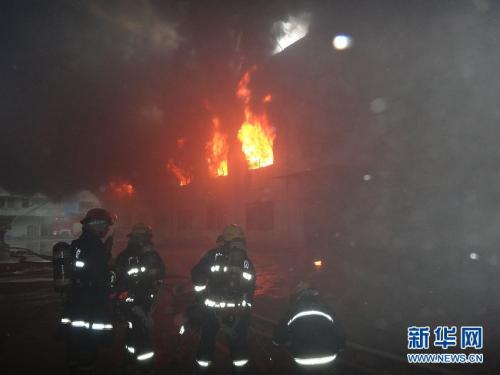fire: (235, 67, 279, 177), (197, 93, 233, 179), (160, 134, 189, 184)
